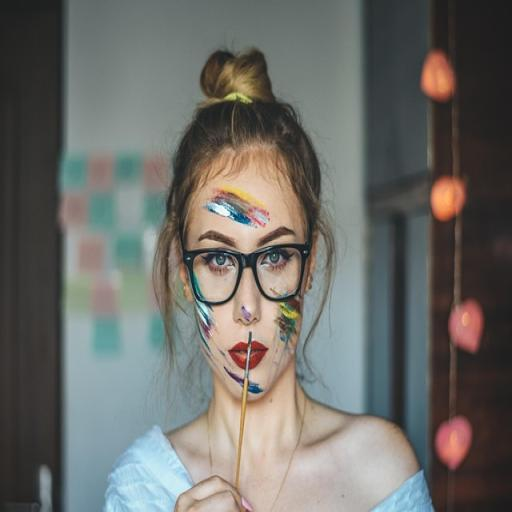lipstick: (249, 341, 267, 369)
